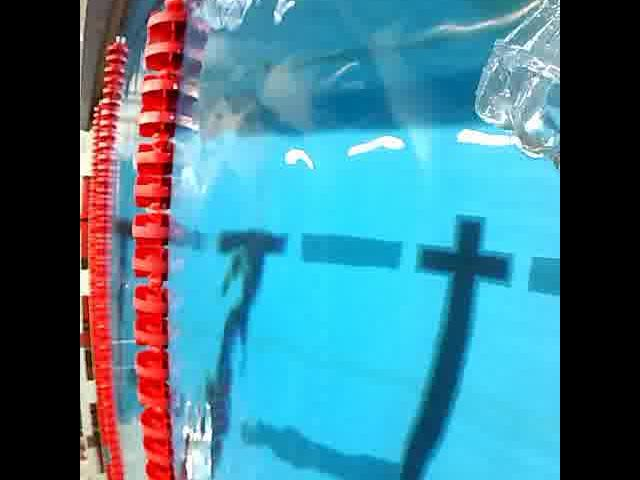Bottle: (464, 0, 560, 173)
